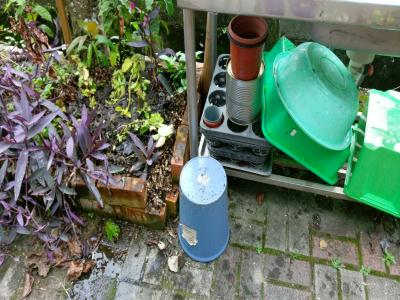bottle: (222, 55, 267, 127)
bowl: (275, 41, 361, 150)
box: (261, 36, 351, 184)
bucket: (175, 154, 235, 265), (226, 11, 272, 83)
